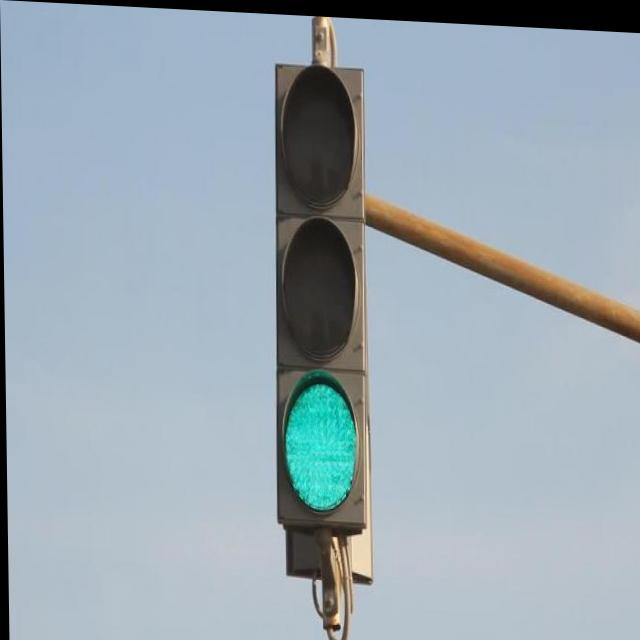green light: (276, 58, 365, 532)
